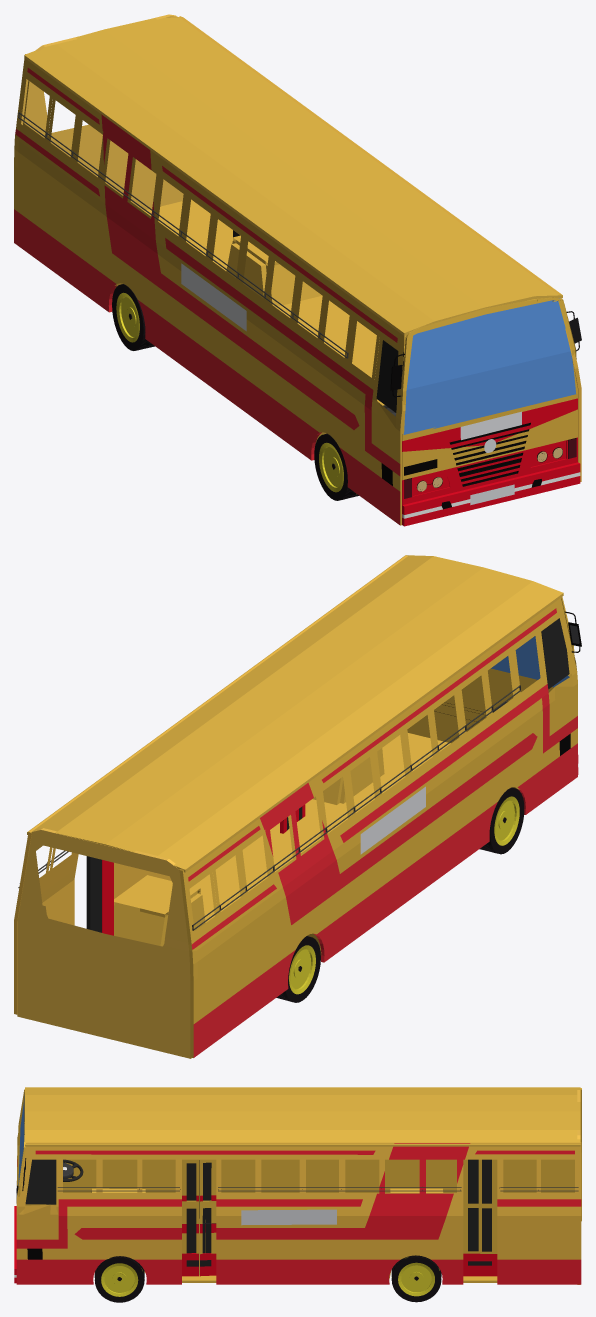
The model's file is privatebus-real.glb.
3 views of the same model, one above another, from view 1: azimuth 30°, elevation 25°; view 2: azimuth 150°, elevation 25°; view 3: azimuth 270°, elevation 25° (orthographic). The views are drawn at different scales.
Parts seen in each view (by area): view 1: BACK_Material.010_0; view 2: BACK_Material.010_0, DOOR.004, DOOR.001; view 3: BACK_Material.010_0, DOOR.001, DOOR.004, DOOR.003, DOOR.002.
Boxes of the visible parts, x1=… form: BACK_Material.010_0: x1=14, y1=14, x2=581, y2=526; BACK_Material.010_0: x1=14, y1=555, x2=581, y2=1058; DOOR.004: x1=86, y1=856, x2=101, y2=932; DOOR.001: x1=102, y1=860, x2=113, y2=935; BACK_Material.010_0: x1=14, y1=1087, x2=581, y2=1302; DOOR.001: x1=463, y1=1159, x2=480, y2=1276; DOOR.004: x1=480, y1=1159, x2=497, y2=1276; DOOR.003: x1=199, y1=1159, x2=216, y2=1276; DOOR.002: x1=182, y1=1159, x2=198, y2=1276.
Bounding box in the file's own units: 2.4 × 2.59 × 8.41.
1 material, 1 textured.
